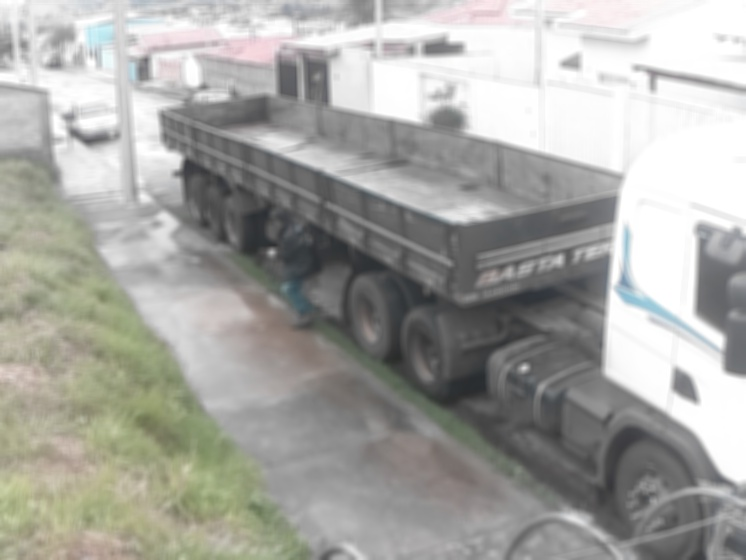person: (265, 206, 325, 334)
